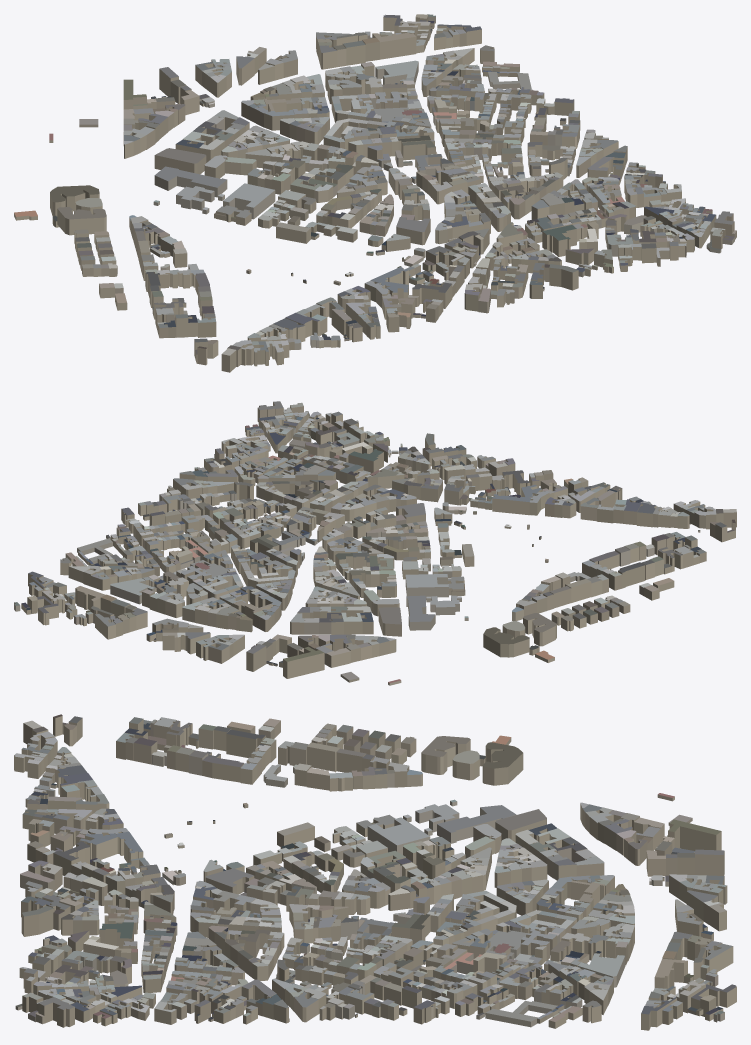
3 views of the same model, one above another, from view 1: azimuth 30°, elevation 25°; view 2: azimuth 150°, elevation 25°; view 3: azimuth 270°, elevation 25° (orthographic). The views are drawn at different scales.
Parts seen in each view (by area): view 1: tuile; view 2: tuile; view 3: tuile.
Part boxes in pixels (bbox=[...]): tuile: bbox=[14, 14, 736, 372]; tuile: bbox=[14, 401, 736, 685]; tuile: bbox=[14, 714, 736, 1030].
Size of the model in its own units: 1036 by 48.36 by 1043.
